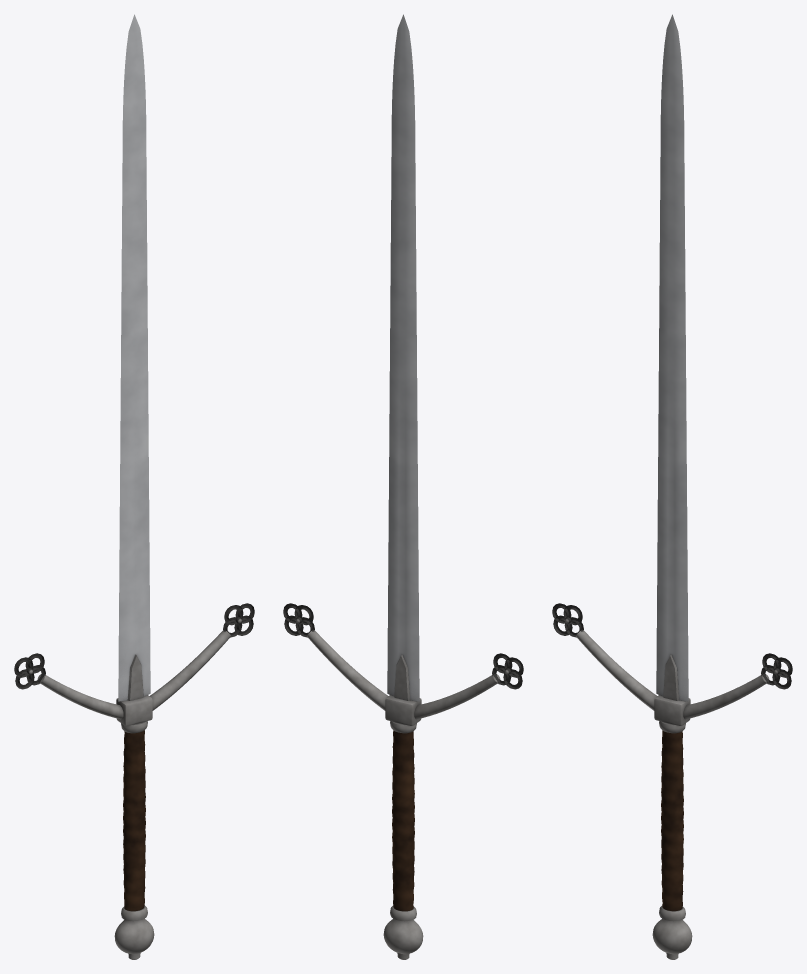
The model's file is claymore.glb.
The picture shows the model from 3 angles, left to right: view 1: azimuth 30°, elevation 25°; view 2: azimuth 150°, elevation 25°; view 3: azimuth 330°, elevation 25°; orthographic projection.
Parts seen in each view (by area): view 1: Claymore; view 2: Claymore; view 3: Claymore.
Part boxes in pixels (x1,y1,x2,y2): Claymore: [14, 14, 254, 959]; Claymore: [283, 14, 523, 959]; Claymore: [552, 14, 792, 959].
Size of the model in its own units: 0.3867 by 1.45 by 0.0464.
1 material, 1 textured.
